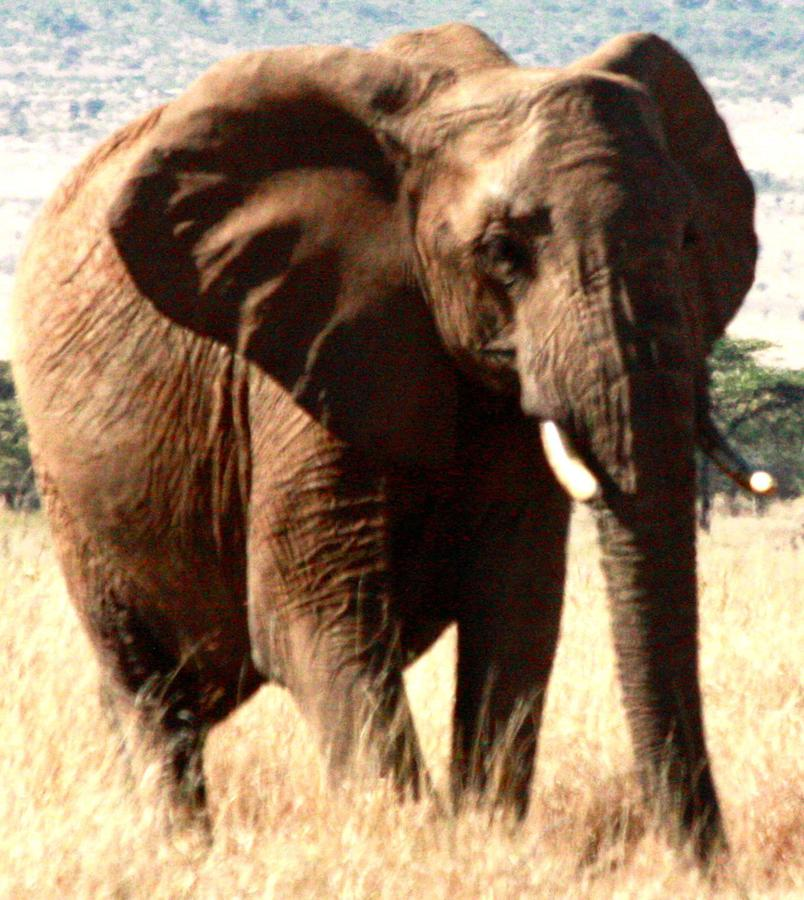elephant: (203, 46, 762, 468)
